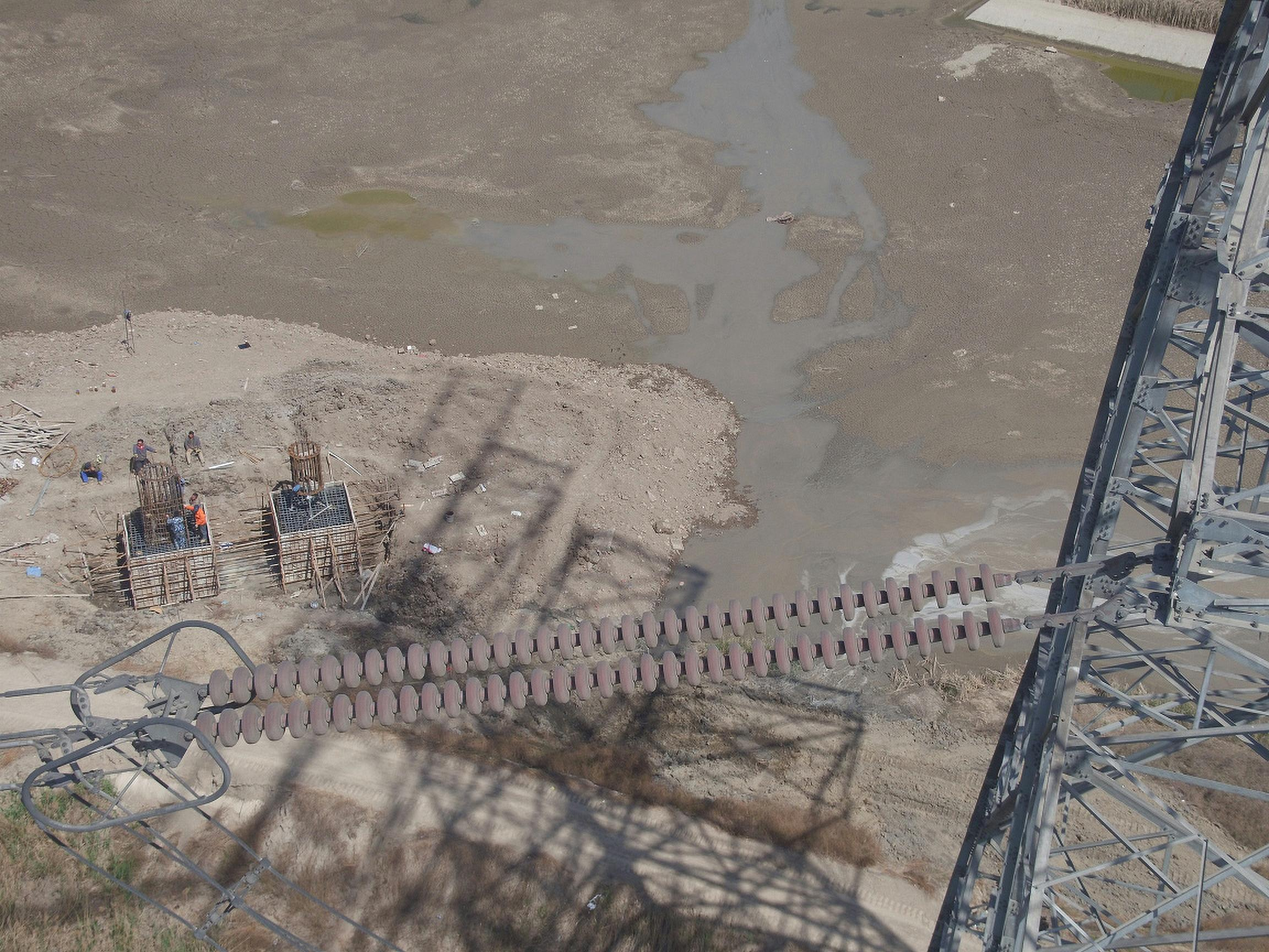insulator: (189, 560, 1011, 753)
